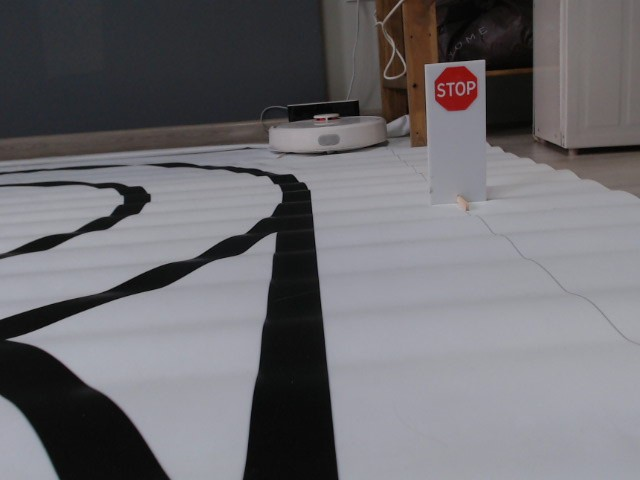Stop: (433, 65, 479, 112)
